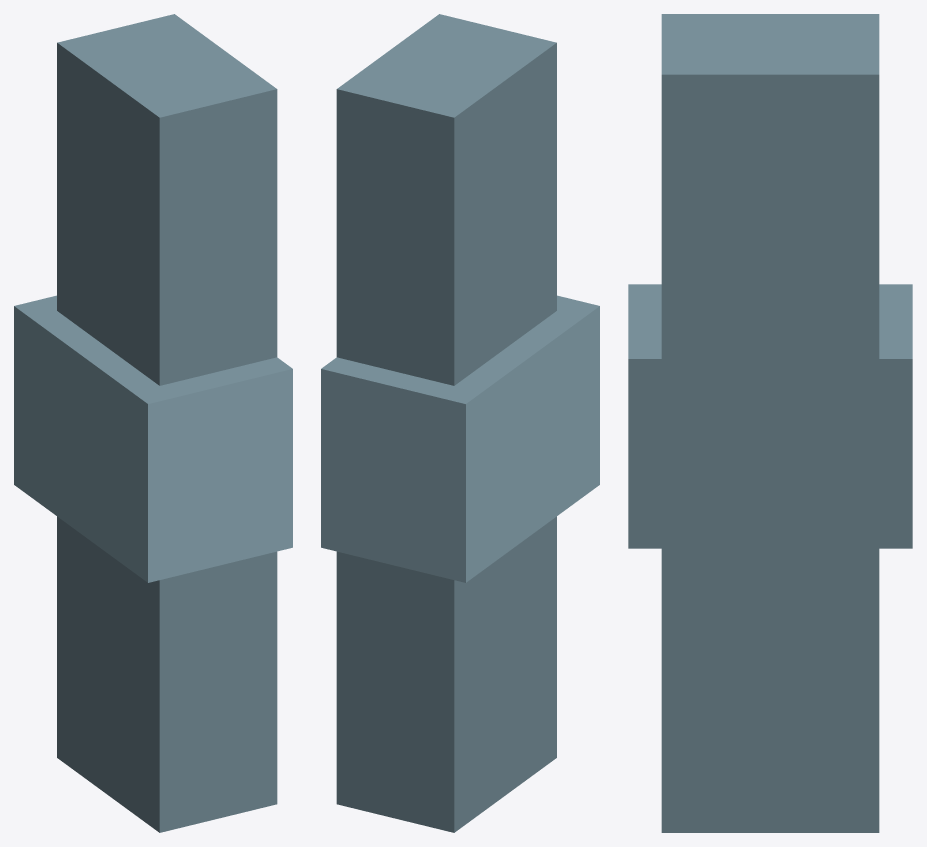
Rendered from chimney.fbx.
3 views of the same model, side by side, from view 1: azimuth 30°, elevation 25°; view 2: azimuth 150°, elevation 25°; view 3: azimuth 270°, elevation 25° (orthographic). The views are drawn at different scales.
Parts seen in each view (by area): view 1: chimney; view 2: chimney; view 3: chimney.
Part boxes in pixels (x1,y1,x2,y2): chimney: (14, 14, 292, 832); chimney: (321, 14, 599, 832); chimney: (628, 14, 912, 832).
Bounding box in the file's own units: 2.12 × 10 × 3.4.
